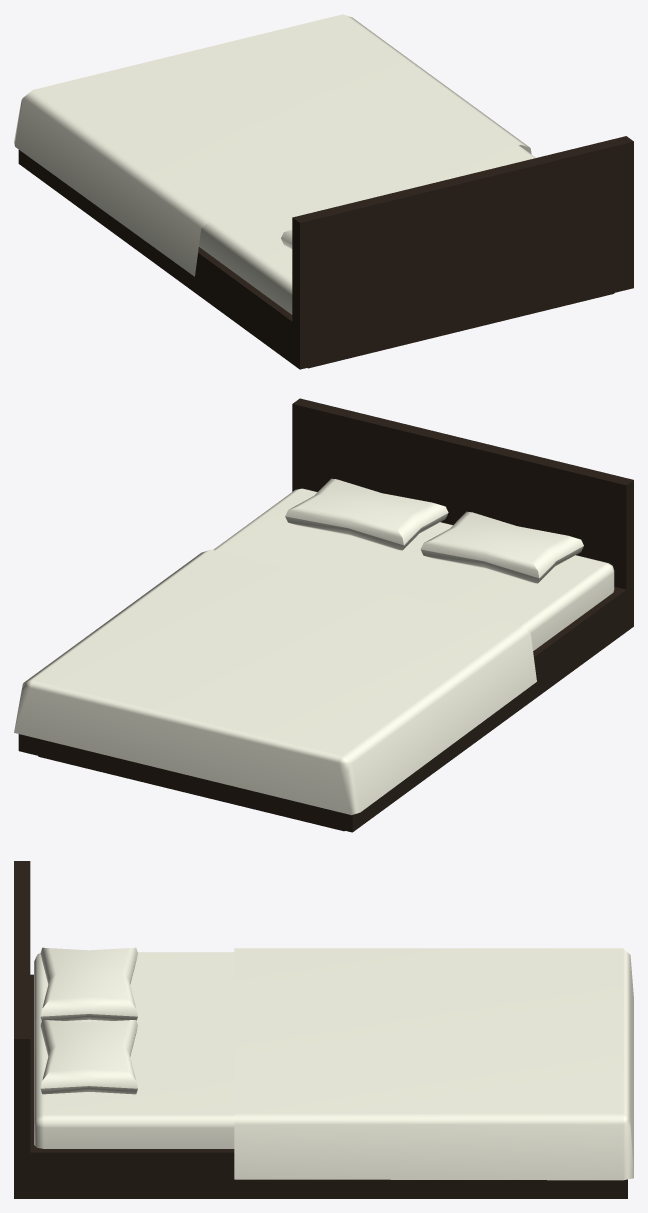
Rendered from thebed.glb.
The picture shows the model from 3 angles, top to bottom: view 1: azimuth 30°, elevation 25°; view 2: azimuth 150°, elevation 25°; view 3: azimuth 270°, elevation 25°; orthographic projection. The views are drawn at different scales.
Parts seen in each view (by area): view 1: bedsheet_low, base_low, mattress_low; view 2: bedsheet_low, base_low, mattress_low, lcushion_low, rcushion_low; view 3: bedsheet_low, mattress_low, base_low, lcushion_low, rcushion_low.
Part boxes in pixels (box(x1,y1,x2,y2)): bedsheet_low: box(14, 14, 531, 276); base_low: box(18, 136, 633, 369); mattress_low: box(199, 145, 535, 314); bedsheet_low: box(14, 549, 536, 815); base_low: box(18, 398, 633, 832); mattress_low: box(213, 488, 614, 650); lcushion_low: box(285, 478, 448, 550); rcushion_low: box(420, 511, 583, 583); bedsheet_low: box(234, 948, 633, 1180); mattress_low: box(34, 952, 234, 1148); base_low: box(14, 861, 627, 1198); lcushion_low: box(40, 1020, 137, 1094); rcushion_low: box(40, 947, 137, 1020).
Size of the model in its own units: 10.01 by 4.24 by 14.27.
Materials: 1 (1 with a texture image).
